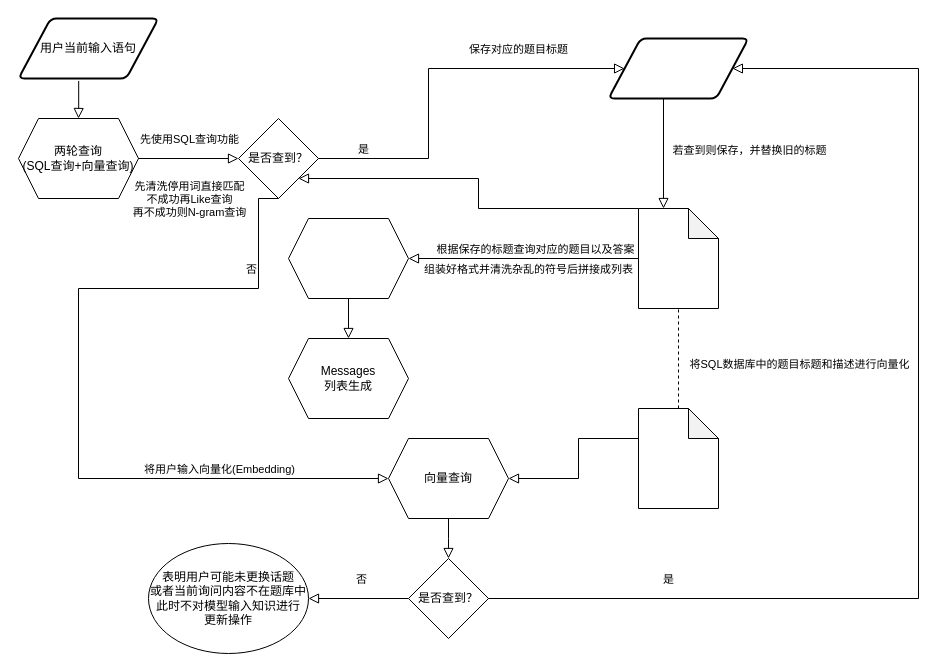
Image size: 946x671. Some labels were removed from this diagram. Here are the shapes that lost their labels. From the top down, the centre of each, then its label:
At point (678, 68): "题目标题".
At point (348, 258): "相关知识子列表生成 (RAG)".
At point (678, 258): "SQL数据库".
At point (678, 458): "向量数据库 FAISS".
